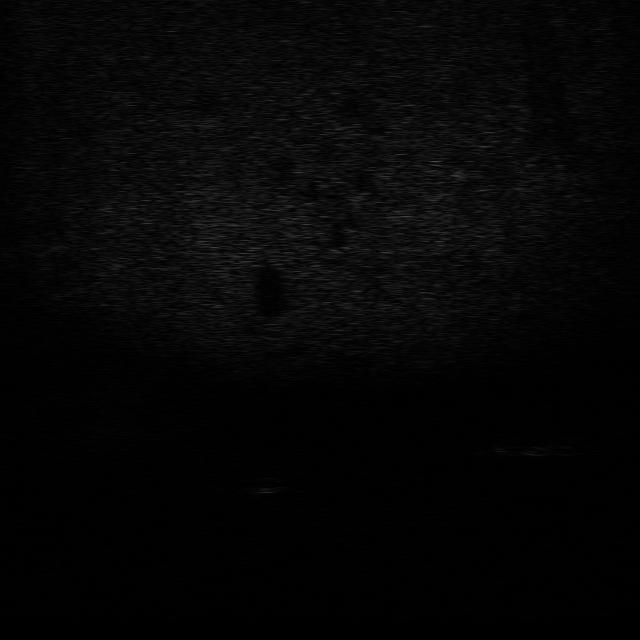ball: (246, 473, 292, 496)
human body: (472, 433, 578, 459)
